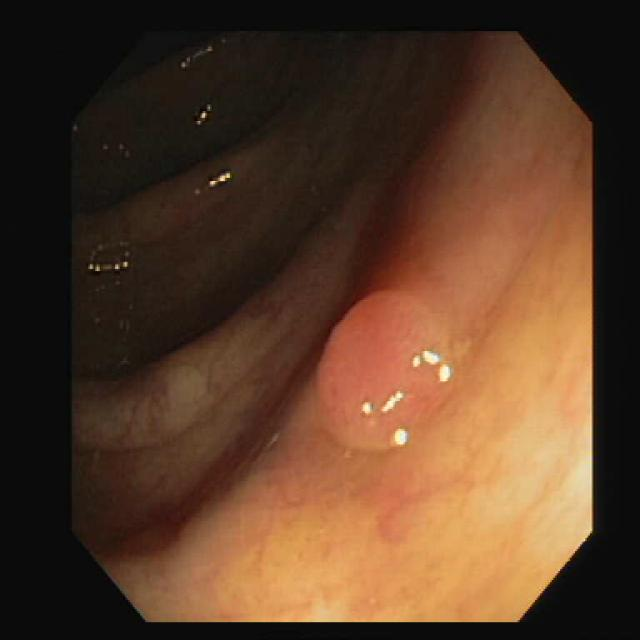tumor: (317, 291, 450, 447)
